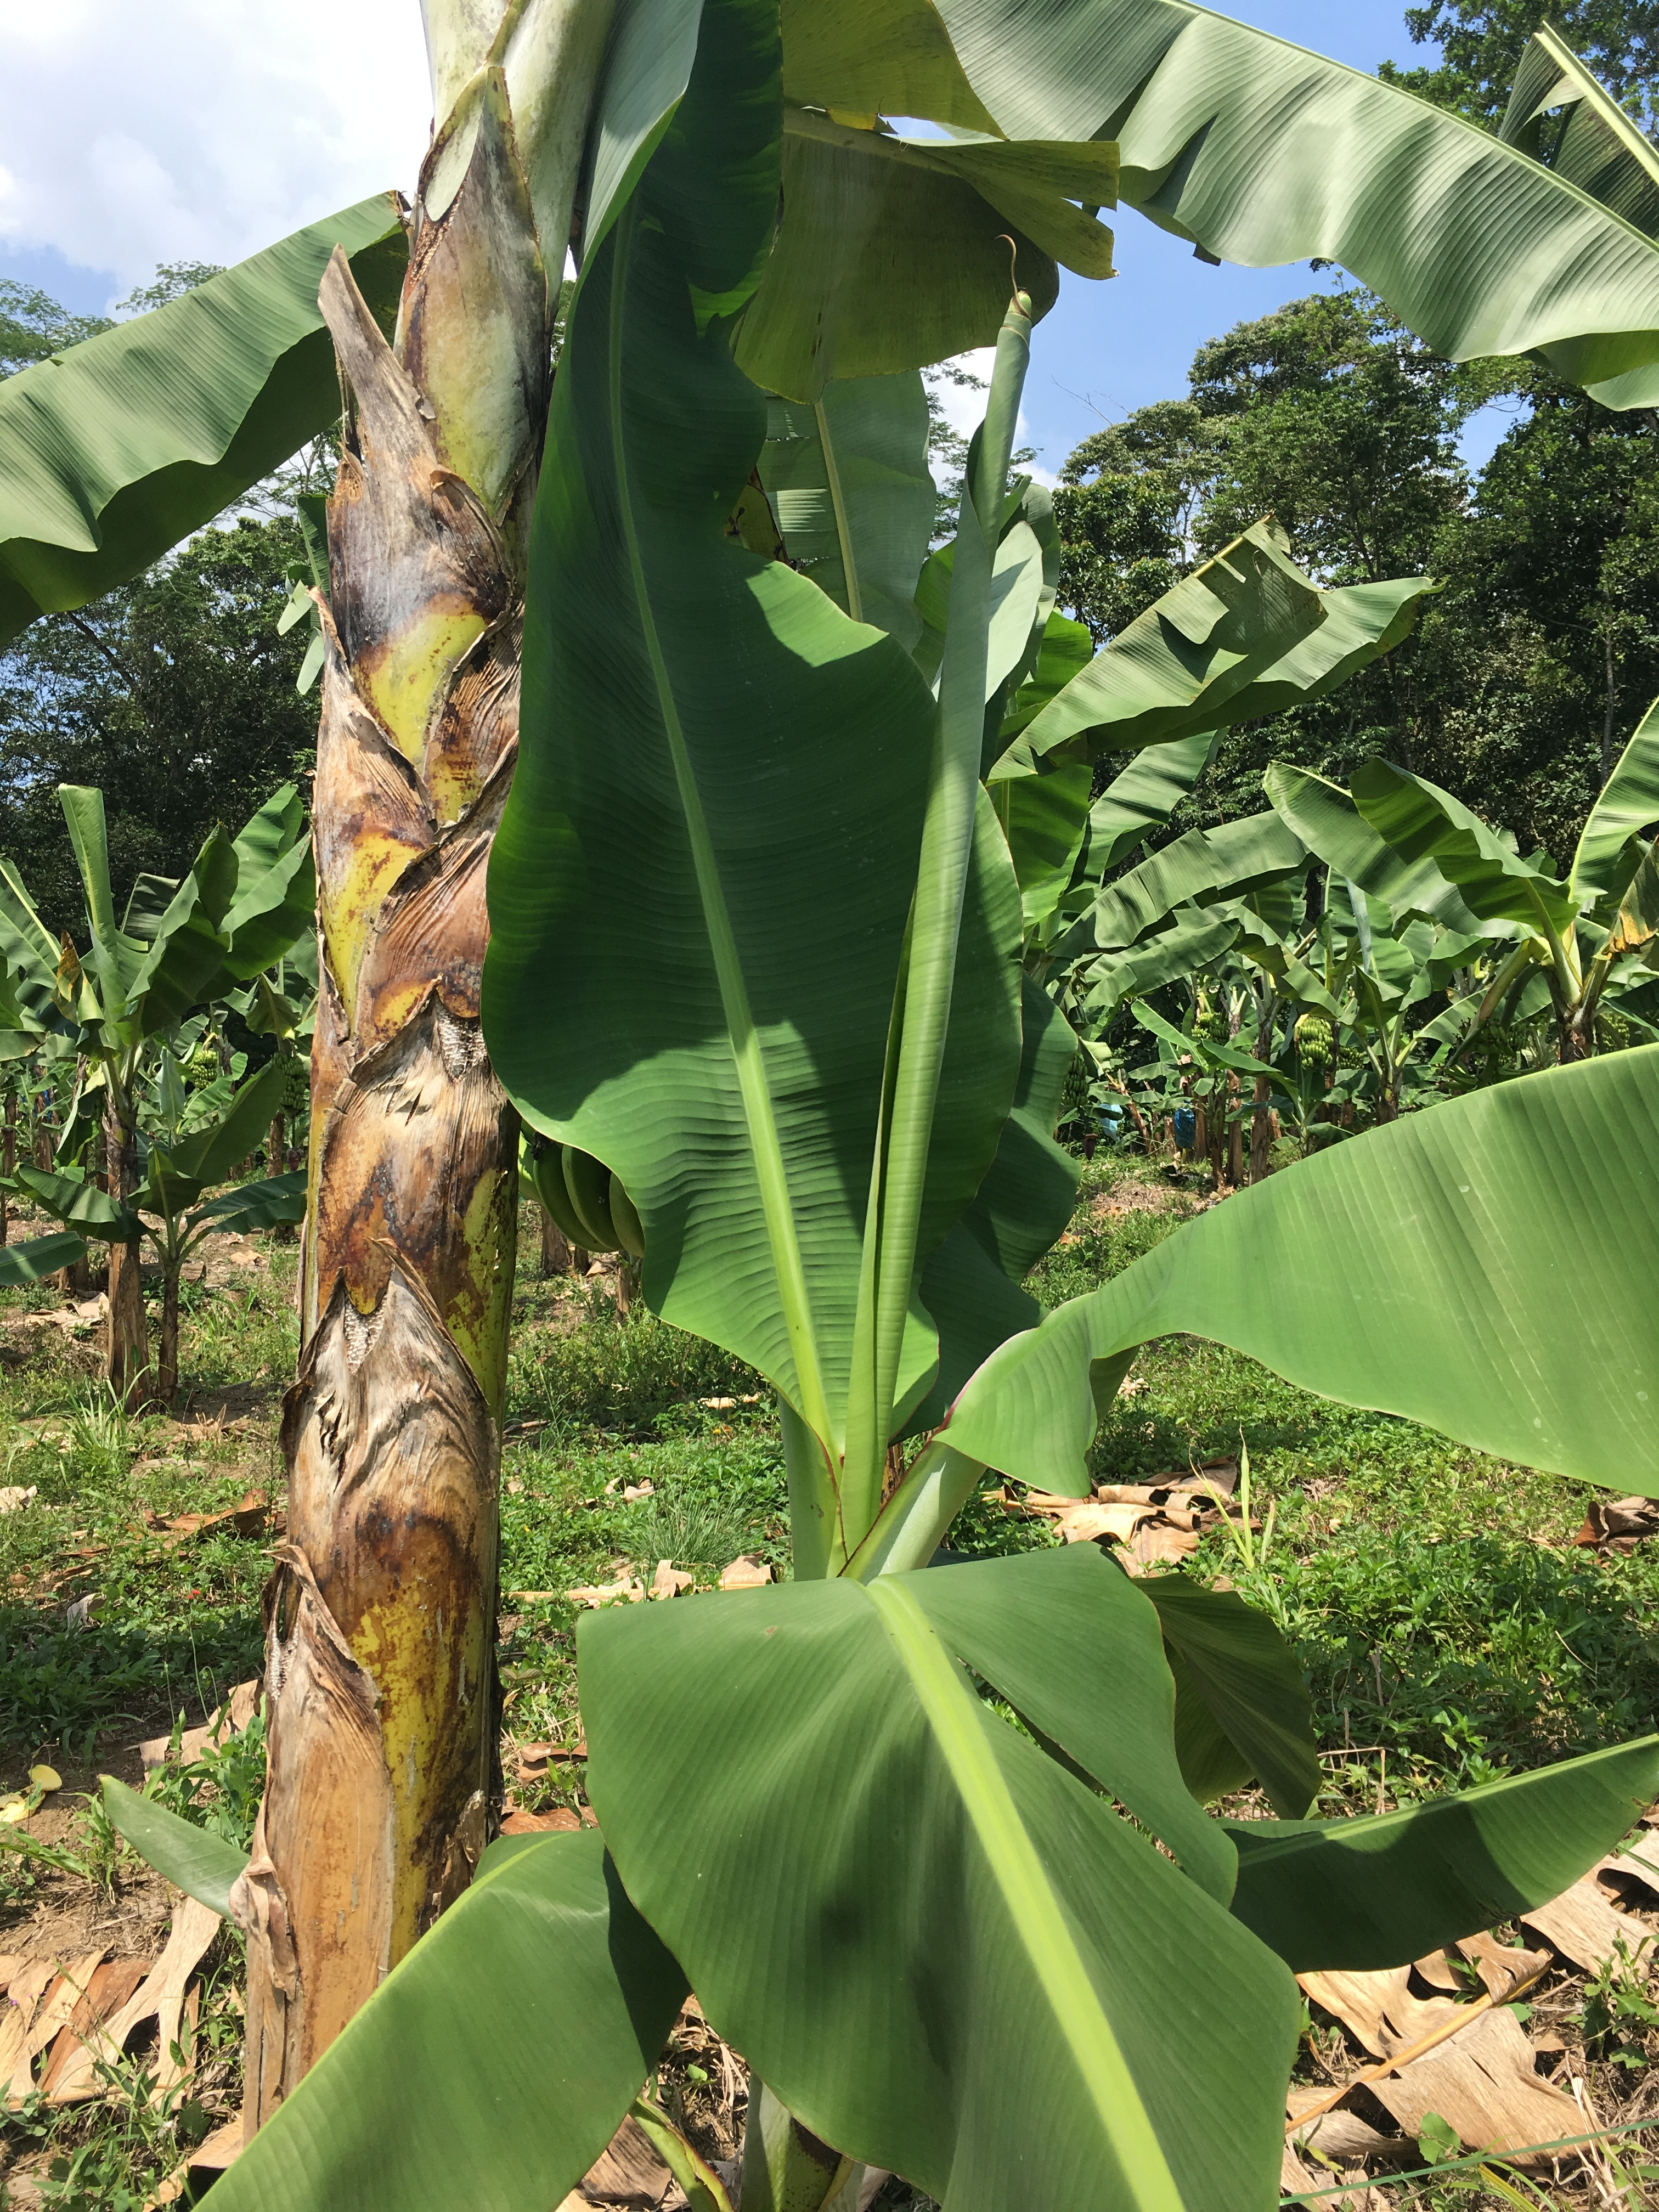candleleafs: (838, 282, 1042, 1332)
